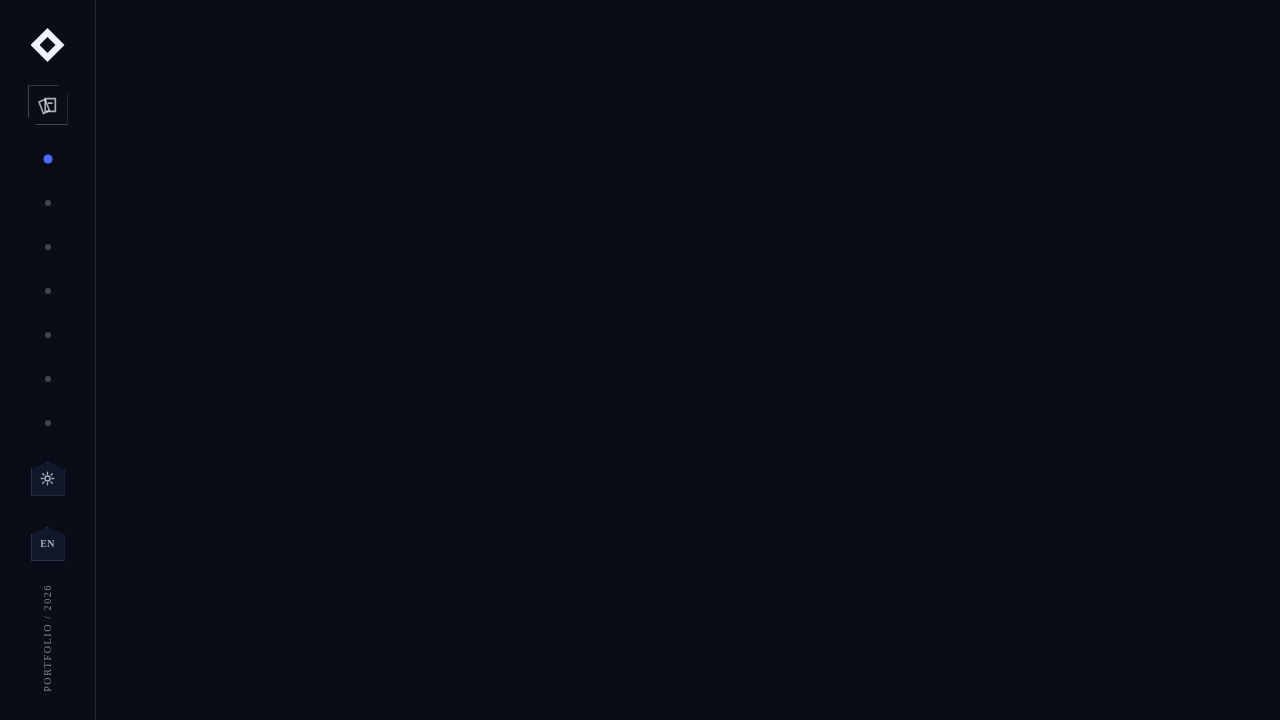
Scenario: <RailNav /> et le menu des arcanes › ouvre le menu depuis le rail, puis rend le focus au bouton à la fermeture
The image size is (1280, 720).
Click the button named "Ouvrir le menu des arcanes".
click(48, 105)  # box [28,85,68,125]
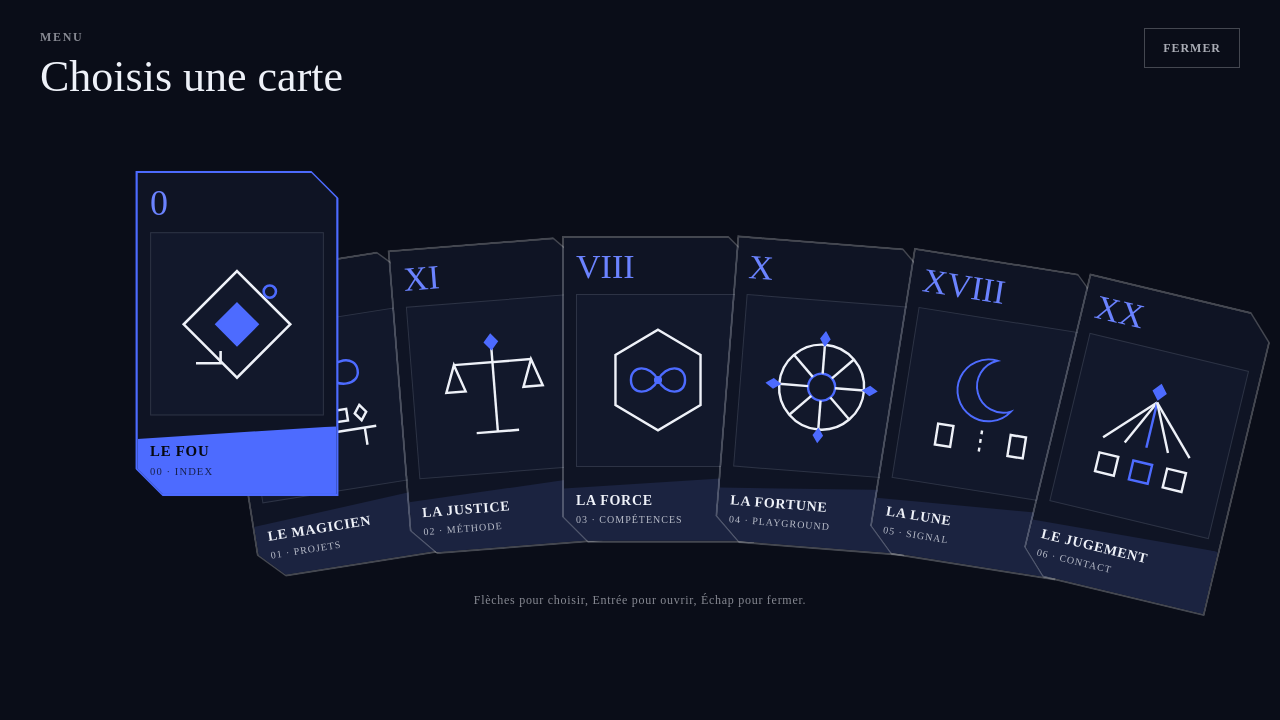
Now the dialog is shown
Press Escape
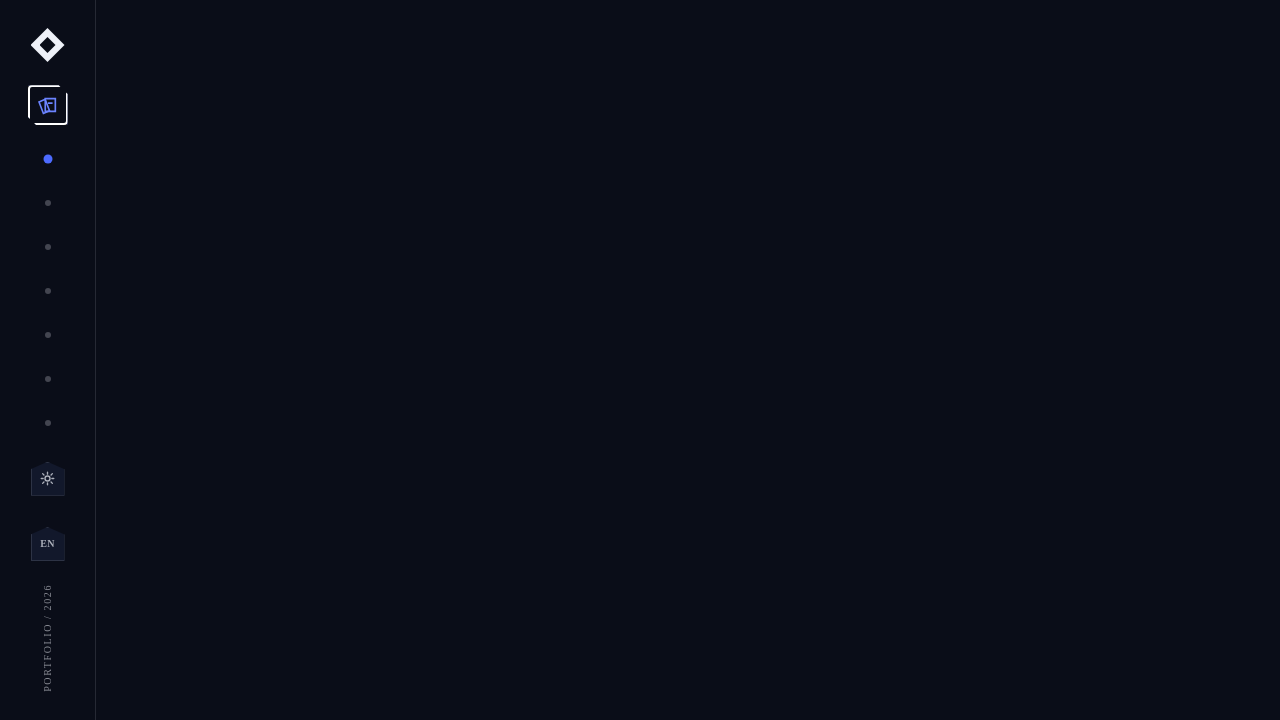
Now the dialog is gone
